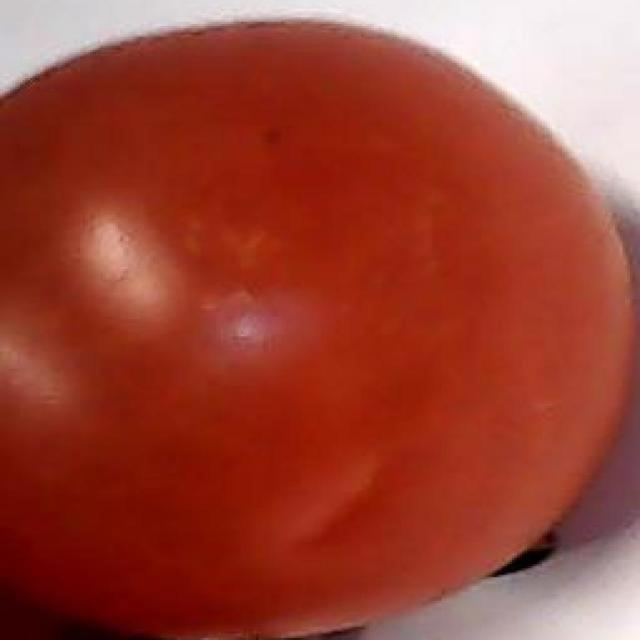Healthy Fruit: (2, 1, 427, 409)
